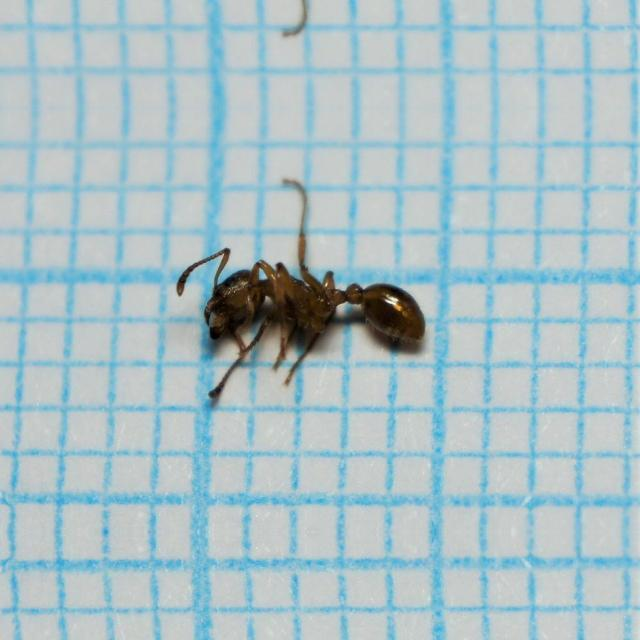Myrmica: (170, 216, 434, 366)
